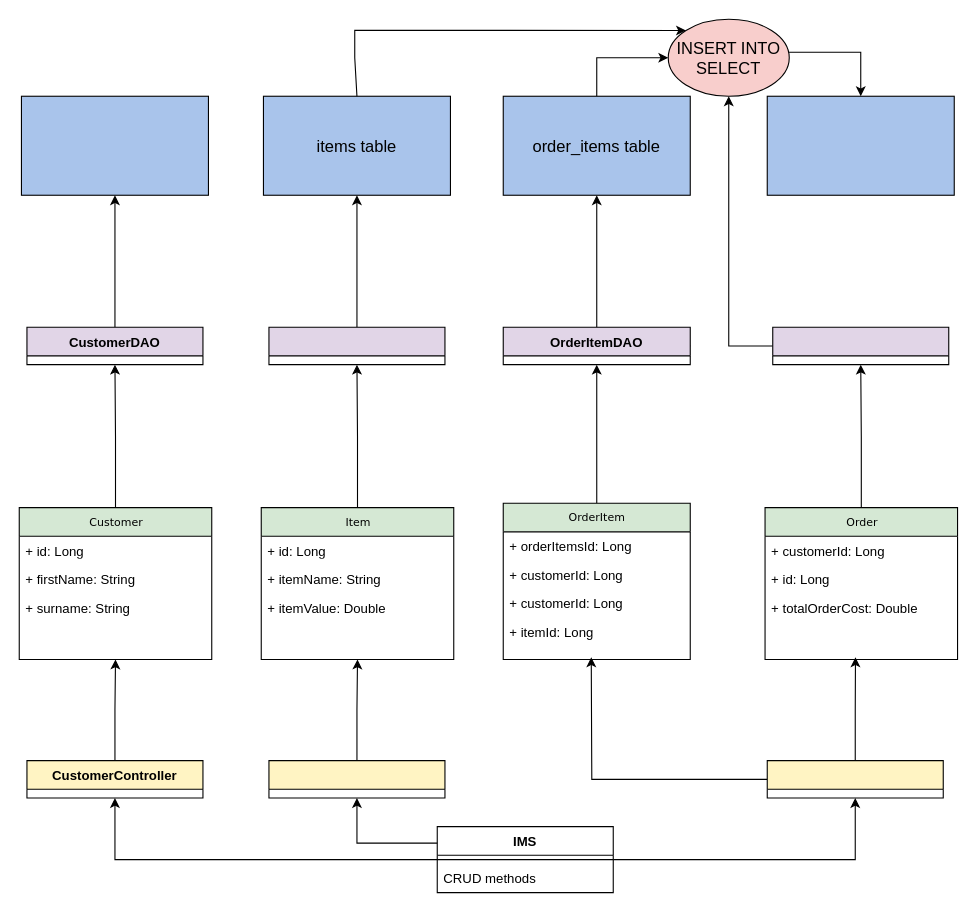
Some shapes in this 977 by 915 pixel diagram are drawn without their labels. The box of each missing label's shape, as (x1, y1, x2, y2) in pixels:
customers table: (20, 95, 208, 195)
ItemController: (268, 760, 445, 798)
ItemDAO: (268, 326, 445, 365)
OrderController: (766, 760, 943, 798)
OrderDAO: (772, 326, 949, 365)
orders table: (766, 95, 954, 195)
